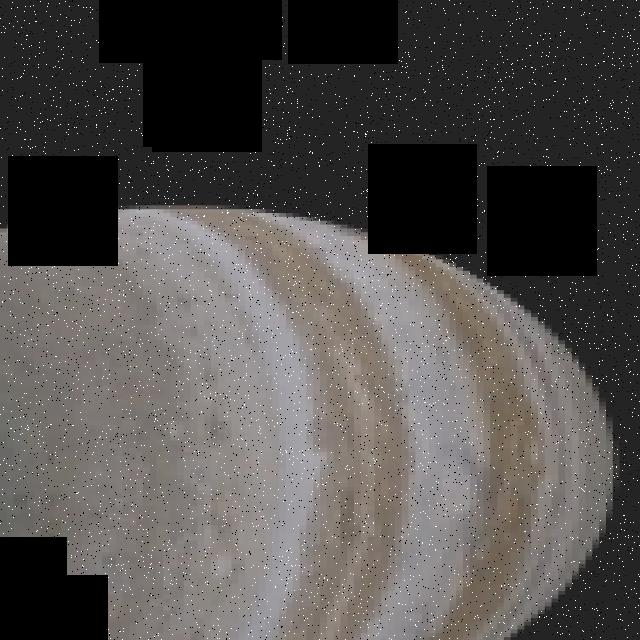Jupiter: (0, 200, 620, 640)
